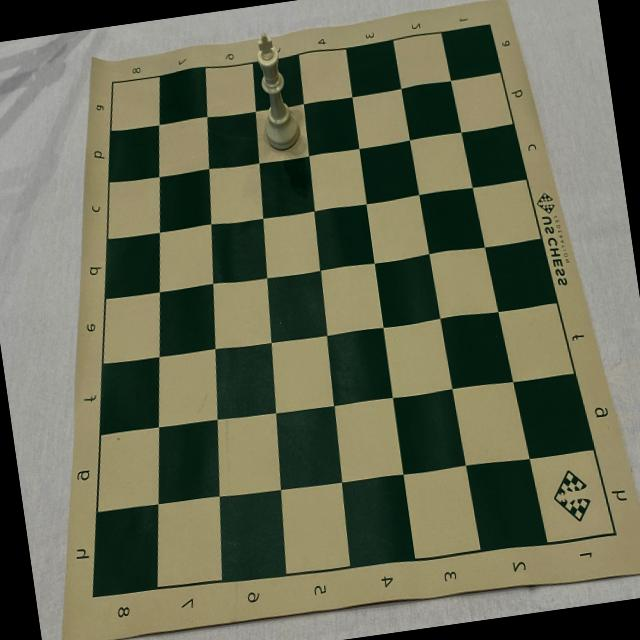white-king: (250, 29, 304, 154)
